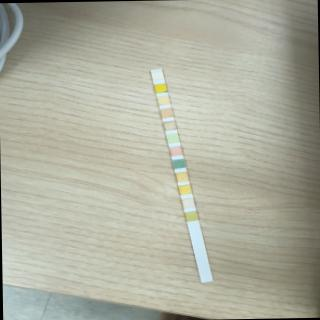mark: (154, 83, 166, 92), (166, 133, 178, 142), (182, 198, 194, 207), (151, 72, 164, 80), (163, 122, 176, 130), (158, 96, 170, 104), (160, 109, 172, 117), (170, 146, 182, 154), (173, 158, 185, 166), (176, 172, 188, 180), (185, 212, 197, 220), (179, 186, 191, 193)
